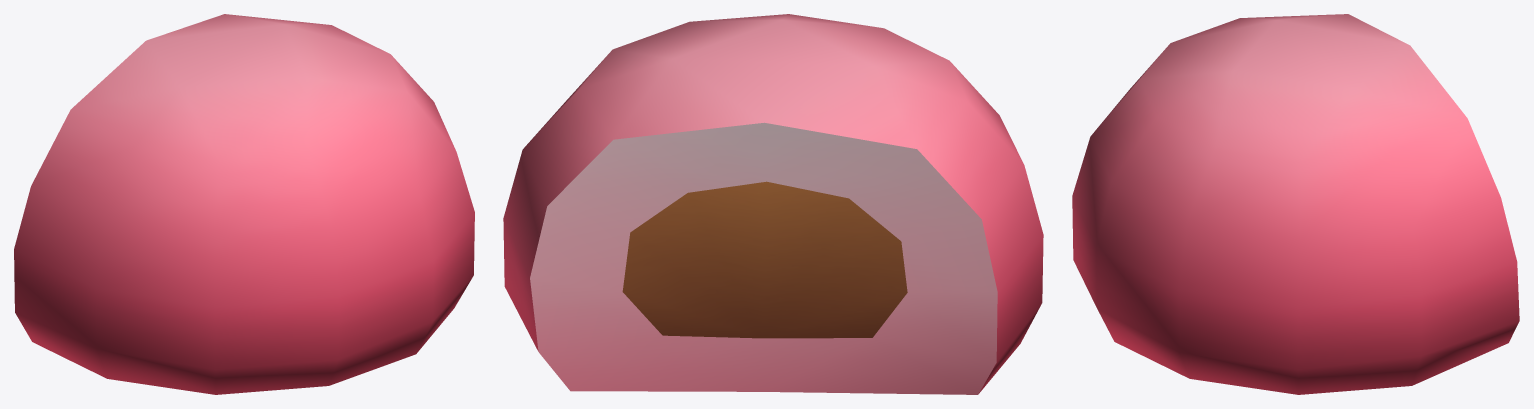
File: m_Mochi01_Cut.fbx
The picture shows the model from 3 angles, left to right: view 1: azimuth 30°, elevation 25°; view 2: azimuth 150°, elevation 25°; view 3: azimuth 270°, elevation 25°; orthographic projection. The views are drawn at different scales.
Parts seen in each view (by area): view 1: m_Mochi01_Cut; view 2: m_Mochi01_Cut; view 3: m_Mochi01_Cut.
Boxes of the visible parts, x1=… form: m_Mochi01_Cut: x1=14, y1=14, x2=474, y2=394; m_Mochi01_Cut: x1=503, y1=14, x2=1043, y2=394; m_Mochi01_Cut: x1=1072, y1=14, x2=1519, y2=394.
Size of the model in its own units: 7.08 by 3.97 by 6.52.
